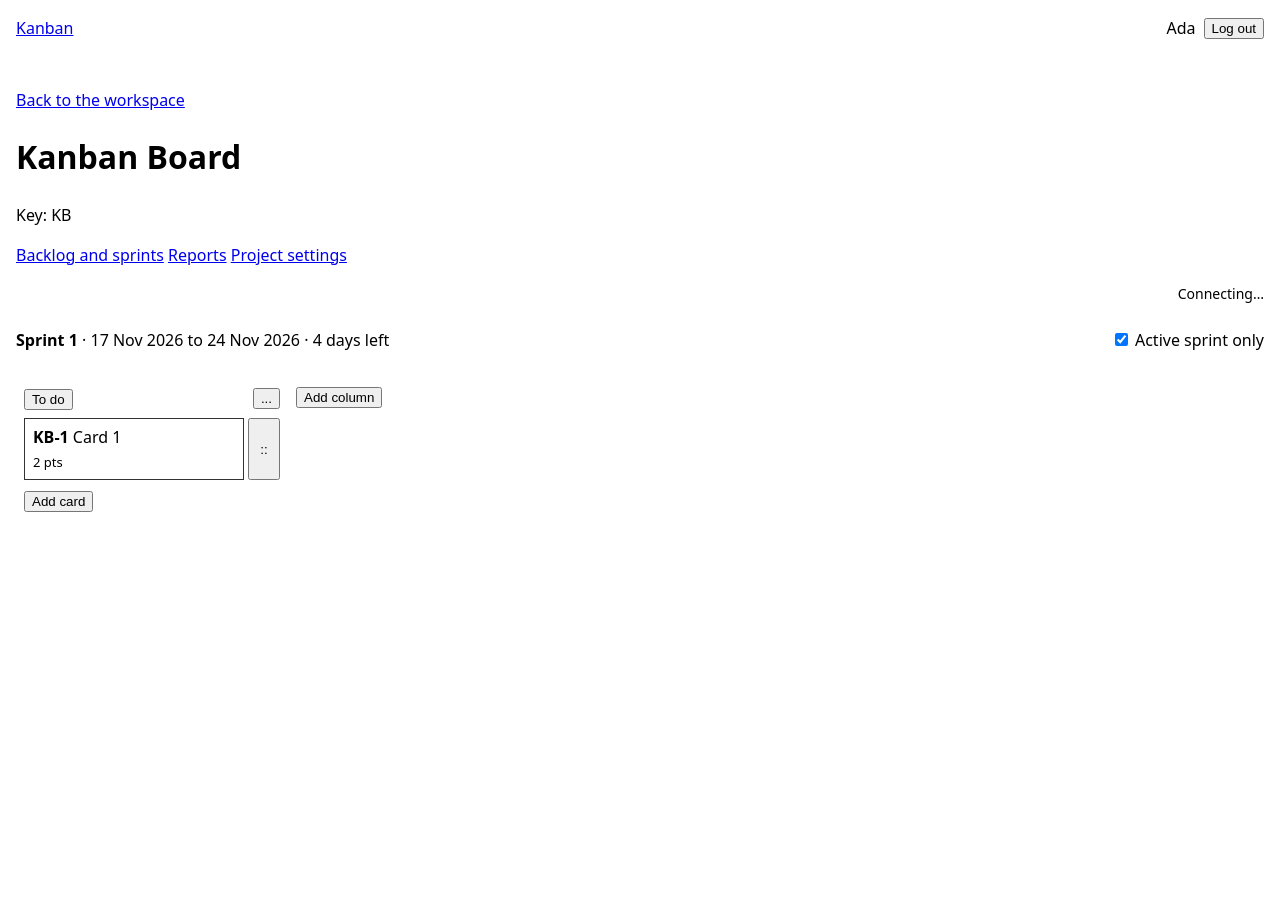
Scenario: board and the active sprint › filters to the active sprint by default, with its name, dates and days left
Expected: the text "Sprint 1" is shown, [16, 329, 78, 351]
Expected: the text "Sprint 1 · 17 Nov 2026 to 24 Nov 2026 · 4 days left" is shown, [16, 328, 389, 352]
Click the checkbox labelled "Active sprint only": click(1121, 339) [1115, 333, 1128, 346]
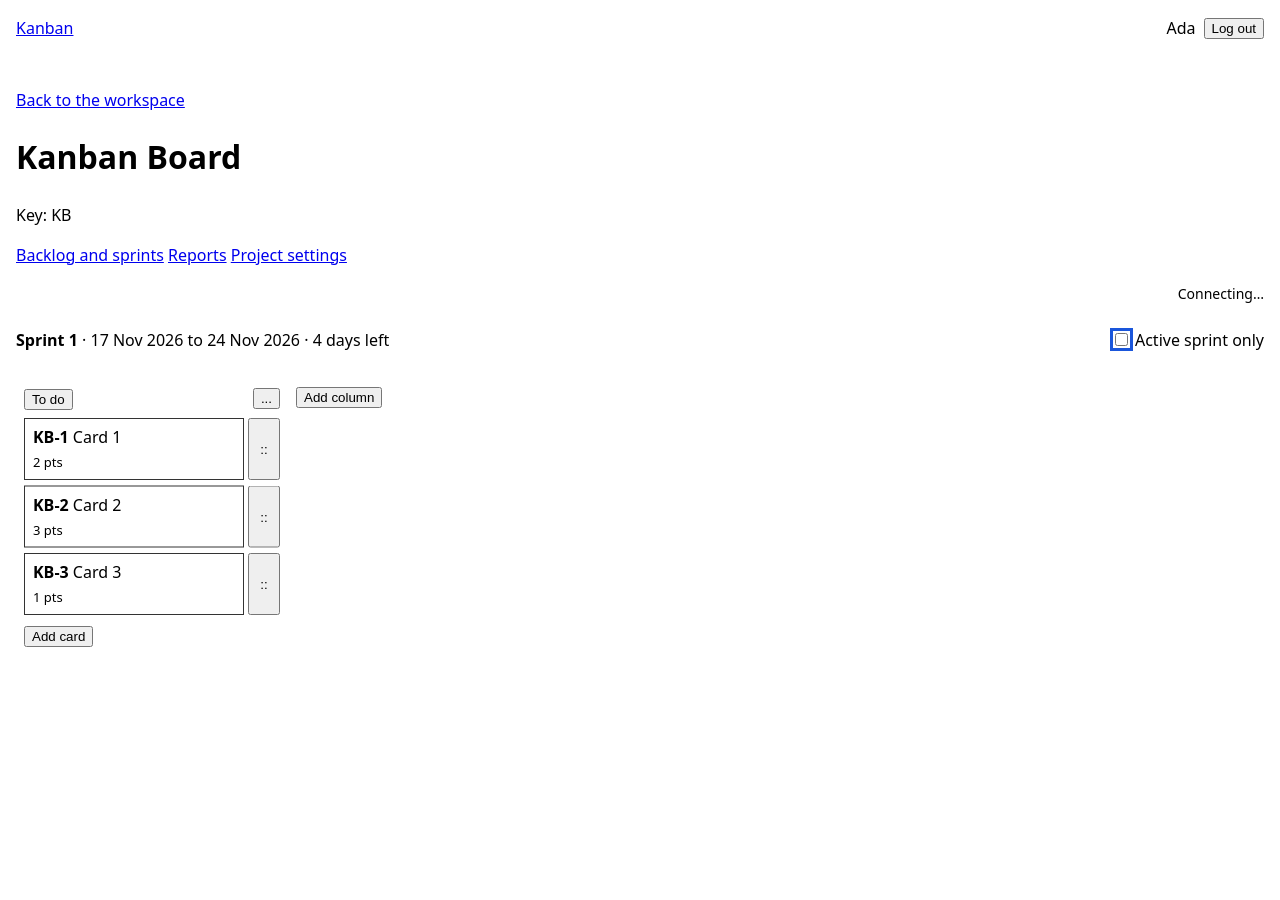
Expected: the link "KB-2 Card 2 3 pts" is shown, [24, 486, 244, 547]
Expected: the link "KB-3 Card 3 1 pts" is shown, [24, 553, 244, 615]
